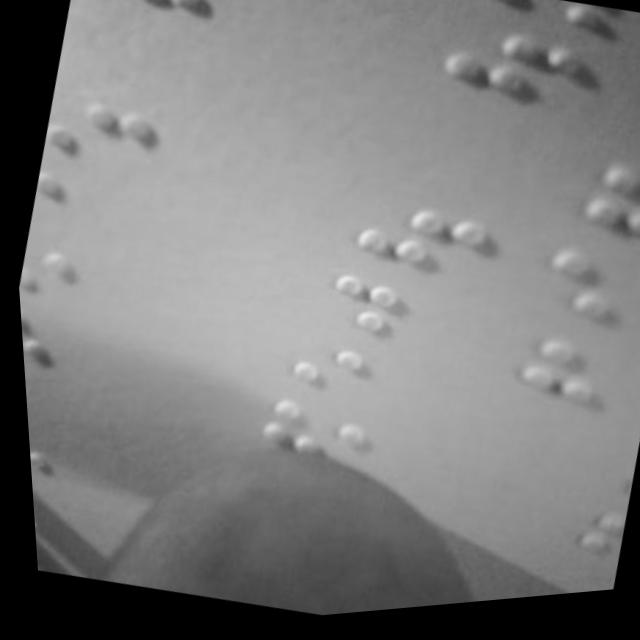braiile: (423, 17, 595, 141), (336, 192, 490, 305), (241, 389, 393, 493), (271, 330, 413, 431), (514, 241, 640, 354), (305, 270, 445, 369), (35, 85, 165, 184), (13, 234, 116, 321), (23, 162, 128, 245), (16, 293, 100, 376)
